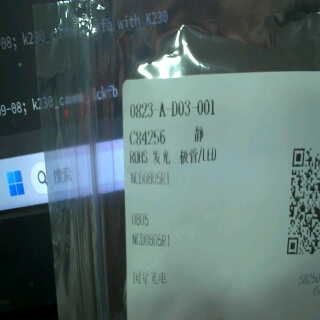LED: (149, 145, 223, 167)
